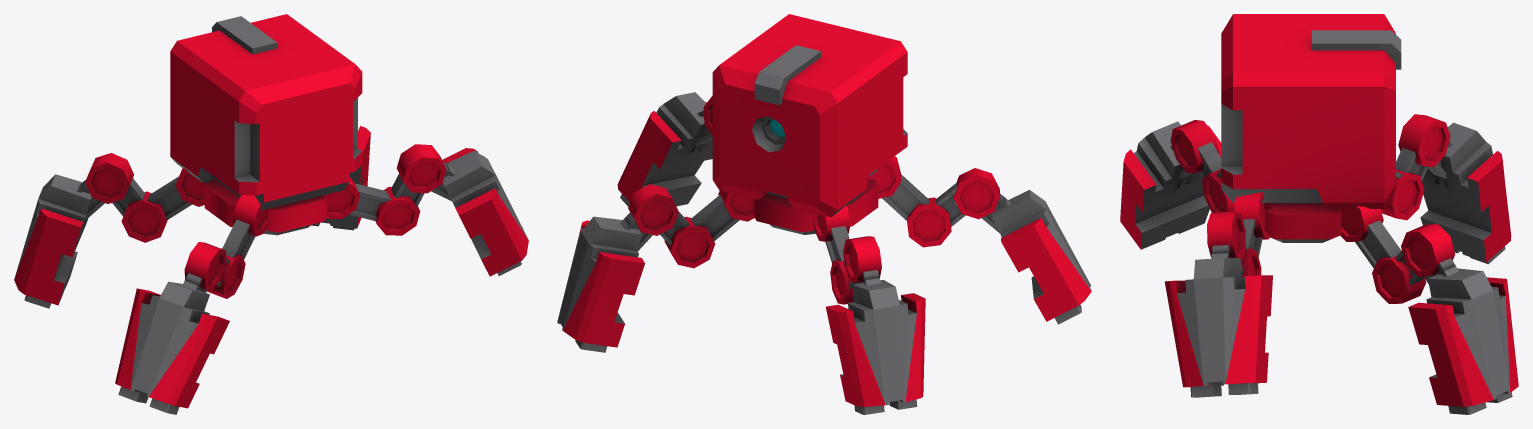
The model's file is Monster1_Move26.obj.
3 views of the same model, side by side, from view 1: azimuth 30°, elevation 25°; view 2: azimuth 150°, elevation 25°; view 3: azimuth 270°, elevation 25° (orthographic). The views are drawn at different scales.
Parts seen in each view (by area): view 1: Box006, Object021, Object025, Object017, Object020, Object028, Object027, Object019, Object022, Object018, Object024, Object026 (+2 smaller); view 2: Box006, Object025, Object013, Object021, Object017, Object016, Object023, Object024, Object015, Object014, Object022, Object028 (+2 smaller); view 3: Box006, Object017, Object013, Object025, Object021, Object016, Object014, Object028, Object027, Object015, Object020, Object024 (+3 smaller).
Boxes of the visible parts, <box> form: Box006: <box>170,14,362,235</box>; Object021: <box>115,281,229,414</box>; Object025: <box>14,174,92,308</box>; Object017: <box>442,148,528,276</box>; Object020: <box>396,144,455,201</box>; Object028: <box>77,153,133,220</box>; Object027: <box>112,178,167,242</box>; Object019: <box>375,174,424,235</box>; Object022: <box>222,195,267,259</box>; Object018: <box>321,177,390,221</box>; Object024: <box>182,242,226,292</box>; Object026: <box>147,168,216,219</box>; Box006: <box>712,14,907,234</box>; Object025: <box>826,280,925,414</box>; Object013: <box>557,216,644,352</box>; Object021: <box>991,190,1091,324</box>; Object017: <box>617,92,712,206</box>; Object016: <box>620,184,678,251</box>; Object023: <box>906,182,965,247</box>; Object024: <box>953,168,1010,233</box>; Object015: <box>660,212,715,268</box>; Object014: <box>690,190,754,241</box>; Object022: <box>868,156,929,220</box>; Object028: <box>843,236,881,285</box>; Box006: <box>1221,14,1401,242</box>; Object017: <box>1165,258,1272,397</box>; Object013: <box>1408,268,1518,414</box>; Object025: <box>1420,122,1511,264</box>; Object021: <box>1120,121,1221,249</box>; Object016: <box>1401,223,1458,284</box>; Object014: <box>1338,206,1401,268</box>; Object028: <box>1398,114,1452,178</box>; Object027: <box>1381,147,1427,220</box>; Object015: <box>1372,250,1426,303</box>; Object020: <box>1207,211,1245,260</box>; Object024: <box>1170,120,1219,179</box>.
Bounding box in the file's own units: 184 × 111 × 134.
